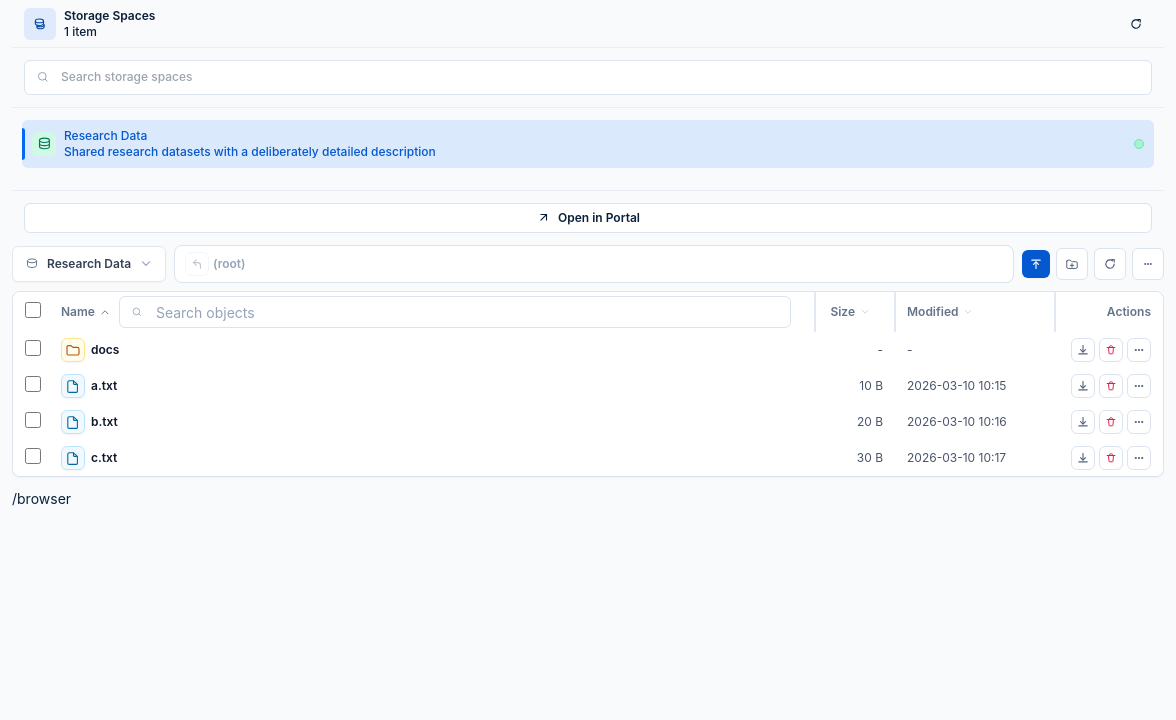
Scenario: BrowserPage interactions › uses Portal storage-space labels in the root Browser sidebar
Right-click the column heading "Actions": (1109, 312) top-left (1055, 292), bottom-right (1163, 332)
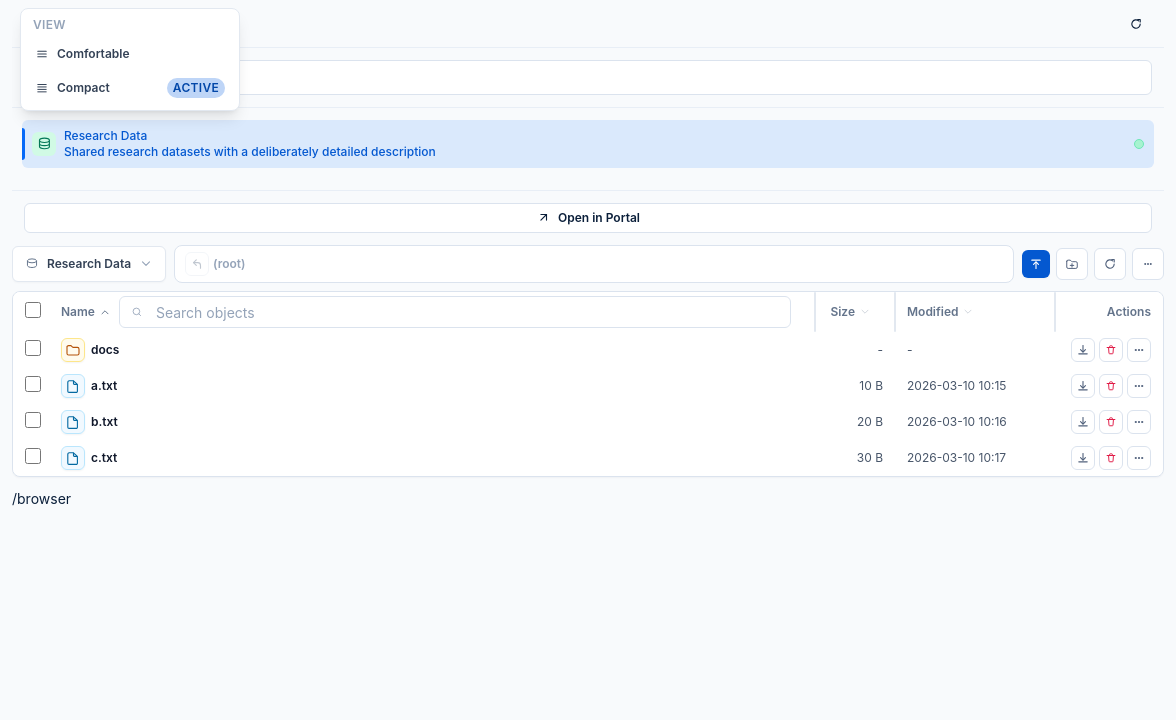
Press Escape
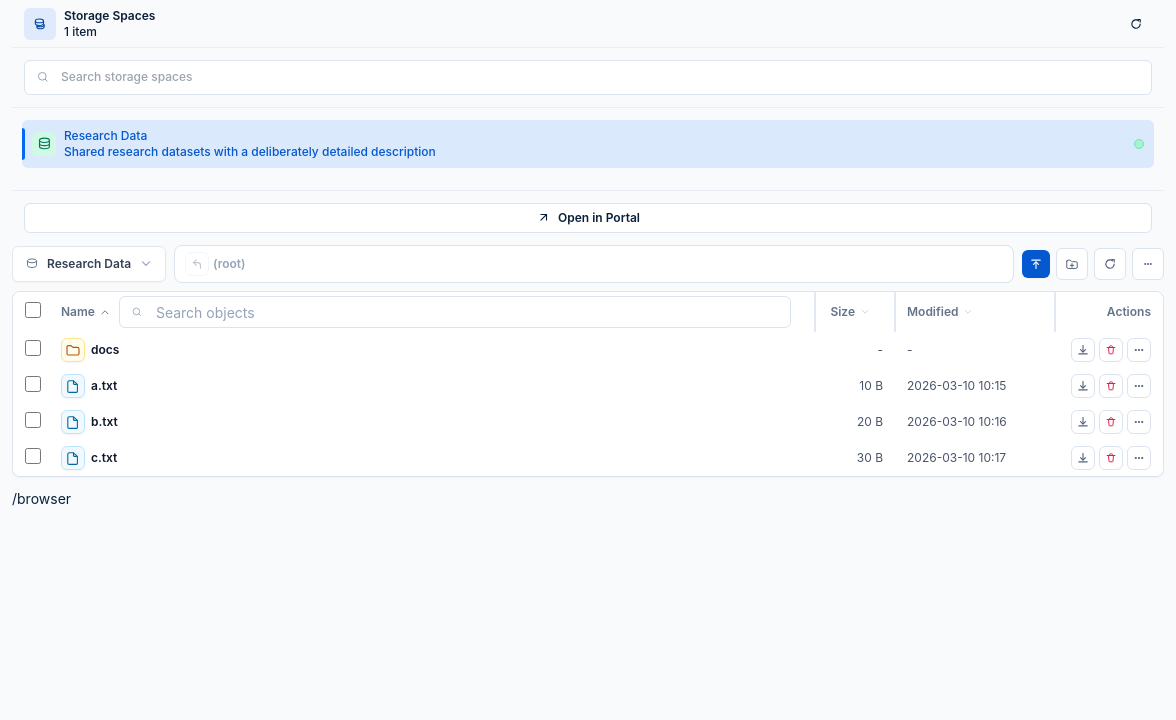
Click the button named "More": (1148, 264) top-left (1132, 248), bottom-right (1164, 280)
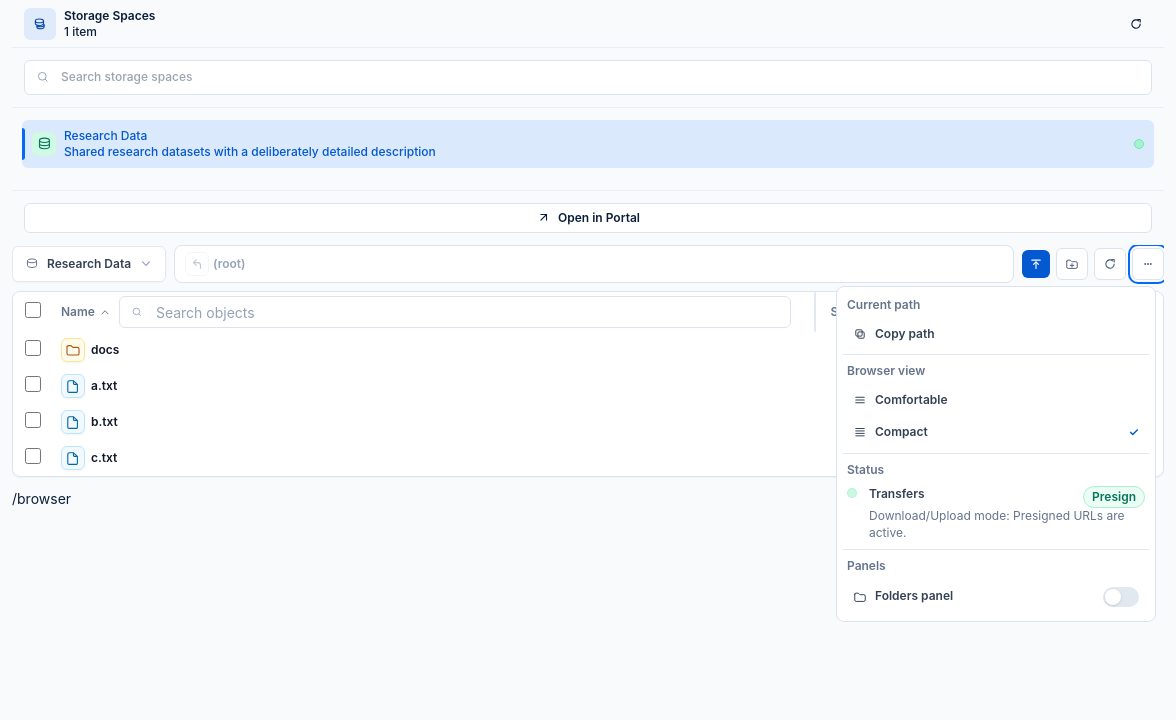
expect the menu named "More" is shown: met, box top-left (843, 293), bottom-right (1149, 614)
Press Escape
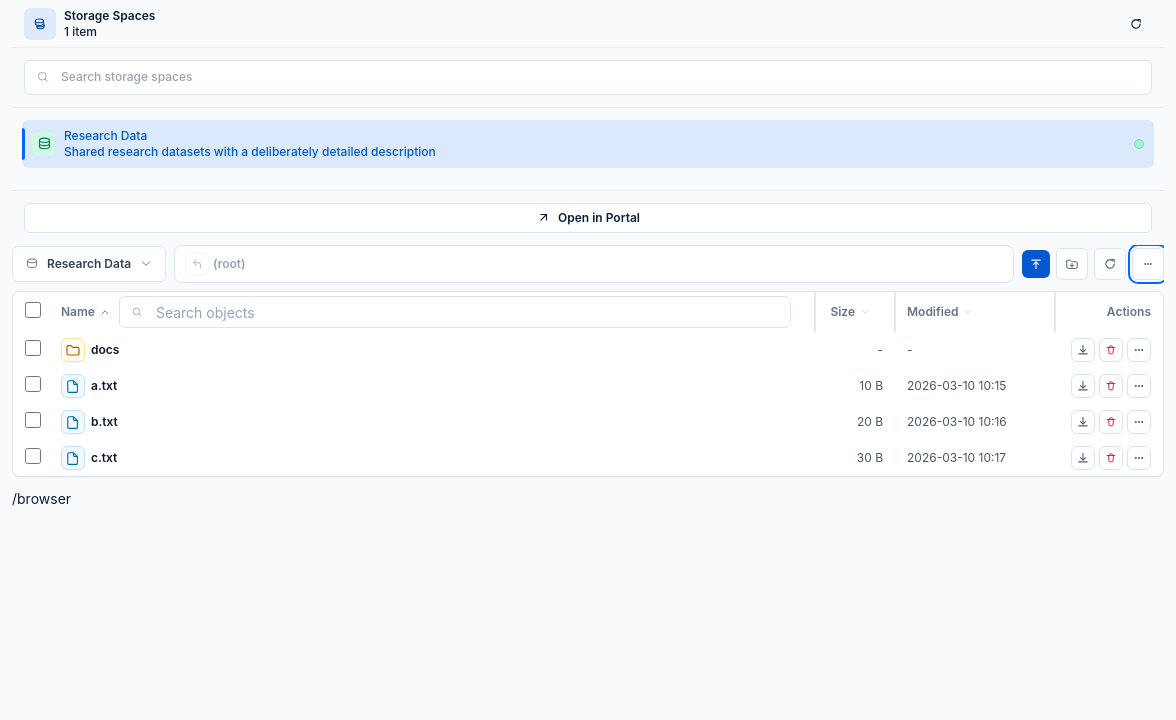
expect the text "Research Data" below "1 item" is shown: met, box top-left (64, 128), bottom-right (147, 142)
Click the button with aria-label "Select storage space": (89, 264) top-left (12, 246), bottom-right (166, 282)
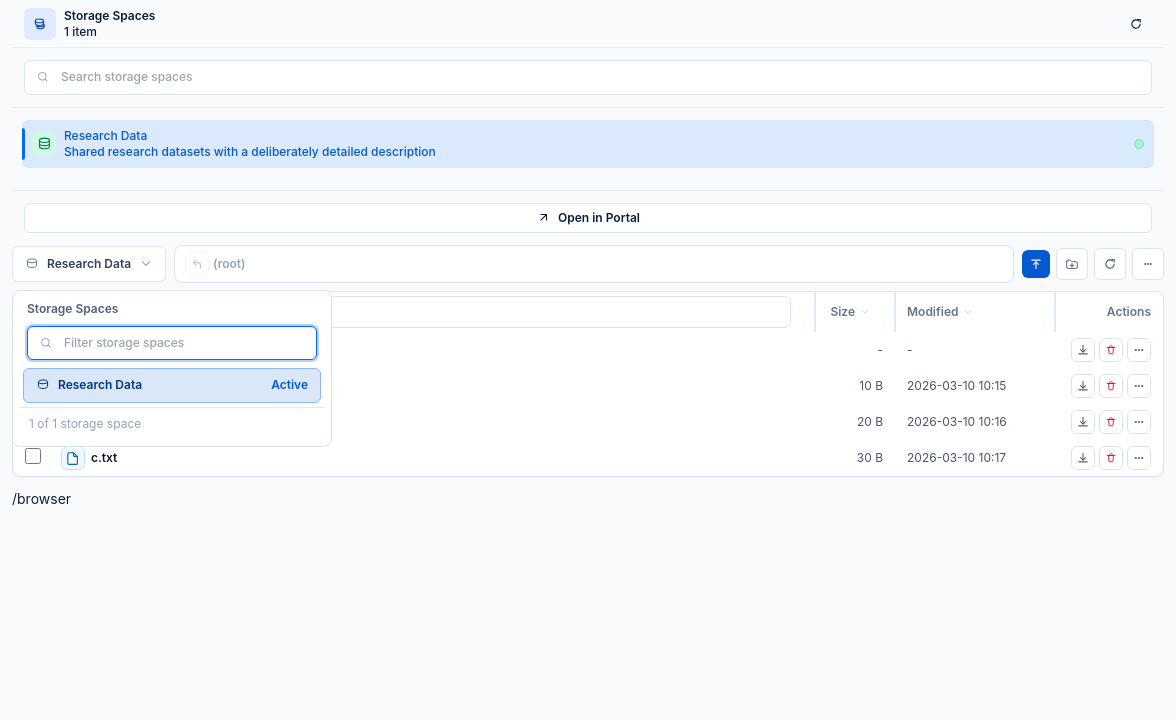
expect the text "Storage Spaces" is shown 2 times: met, box top-left (64, 8), bottom-right (155, 22); top-left (27, 301), bottom-right (118, 318)
expect the field with placeholder "Filter storage spaces" is shown: met, box top-left (27, 326), bottom-right (317, 360)
expect the text "1 of 1 storage space" is shown: met, box top-left (19, 406), bottom-right (325, 440)
